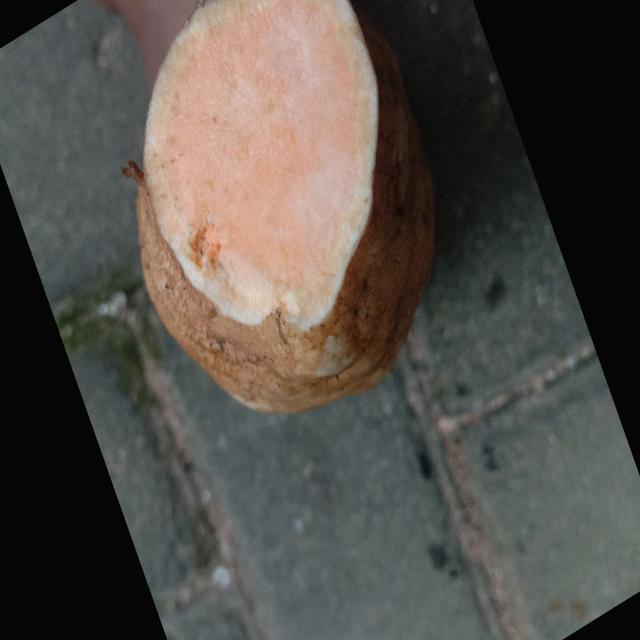Healthy Sweet Potato: (144, 0, 378, 330)
